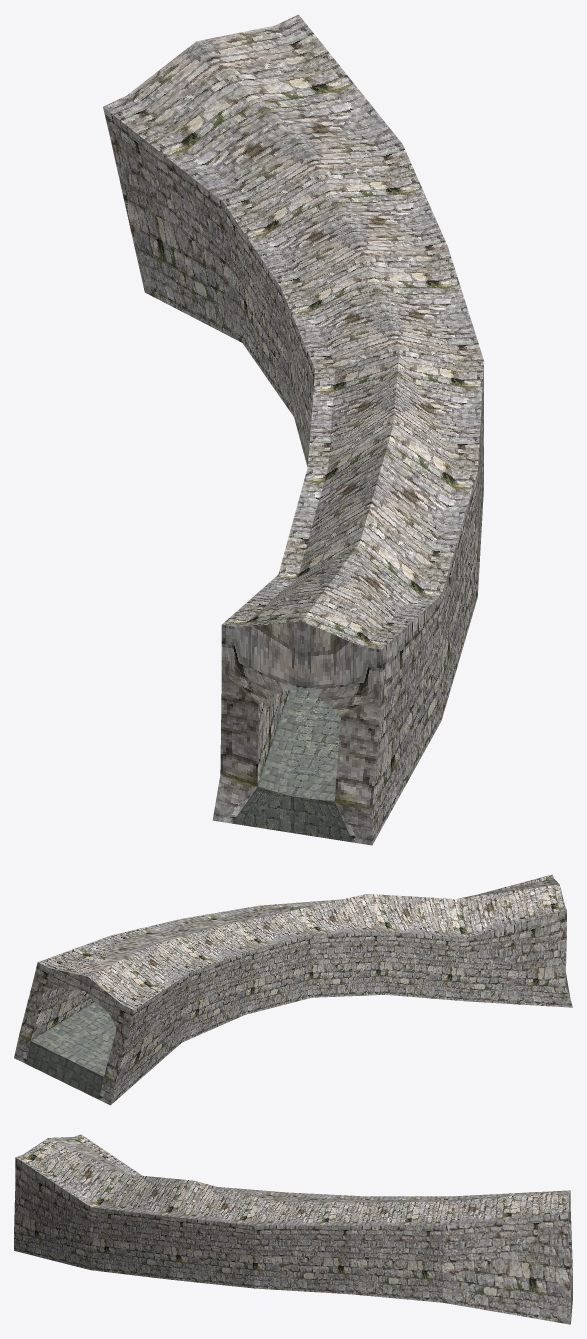
Rendered from ItalyCliffsTunnel1.glb.
3 renders of one model, top to bottom at view 1: azimuth 30°, elevation 25°; view 2: azimuth 150°, elevation 25°; view 3: azimuth 270°, elevation 25°, orthographic. The views are drawn at different scales.
Visible parts, largest first — view 1: ItallyCliffsTunnel1-col; view 2: ItallyCliffsTunnel1-col; view 3: ItallyCliffsTunnel1-col.
Part boxes in pixels (x1,y1,x2,y2): ItallyCliffsTunnel1-col: [103, 14, 483, 845]; ItallyCliffsTunnel1-col: [14, 874, 572, 1105]; ItallyCliffsTunnel1-col: [14, 1134, 572, 1324].
Bounding box in the file's own units: 35.35 × 16.79 × 55.25.
2 materials, 2 textured.
